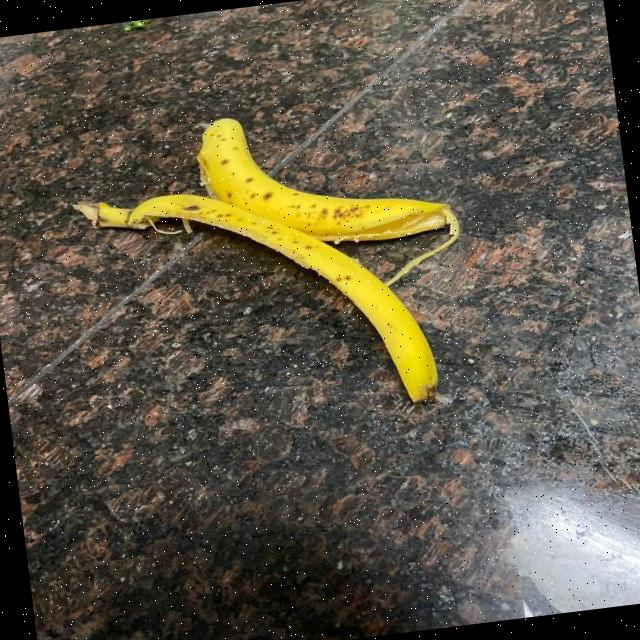banana-peel: (70, 158, 442, 442), (190, 89, 464, 307)
